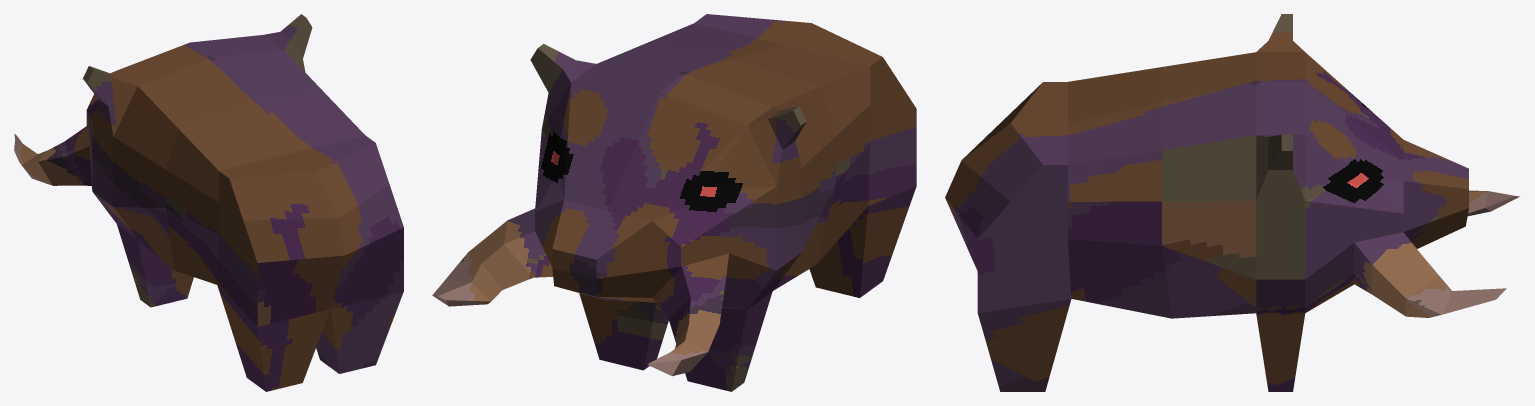
The model's file is womprat.gltf.
3 renders of one model, left to right at view 1: azimuth 30°, elevation 25°; view 2: azimuth 150°, elevation 25°; view 3: azimuth 270°, elevation 25°, orthographic. The views are drawn at different scales.
Parts seen in each view (by area): view 1: cuboid; view 2: cuboid; view 3: cuboid.
Boxes of the visible parts, left/top/right/bottom form: cuboid: left=14, top=14, right=403, bottom=391; cuboid: left=432, top=14, right=916, bottom=391; cuboid: left=945, top=14, right=1519, bottom=391.
Size of the model in its own units: 0.593 by 0.6034 by 1.1.
1 material, 1 textured.
